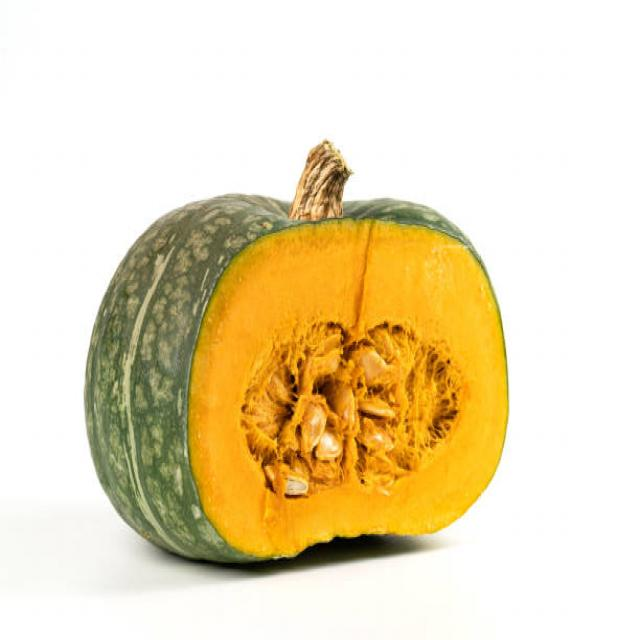Pumpkin: (79, 132, 515, 576)
